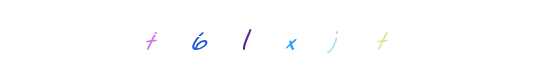1: (206, 0, 286, 80)
6: (185, 0, 265, 80)
J: (230, 0, 310, 80)
T: (126, 0, 206, 80), (342, 0, 422, 80)
X: (226, 0, 306, 80)
